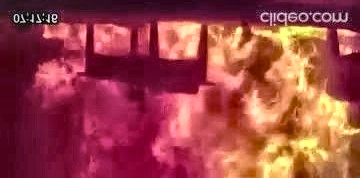fire: (38, 29, 360, 178)
